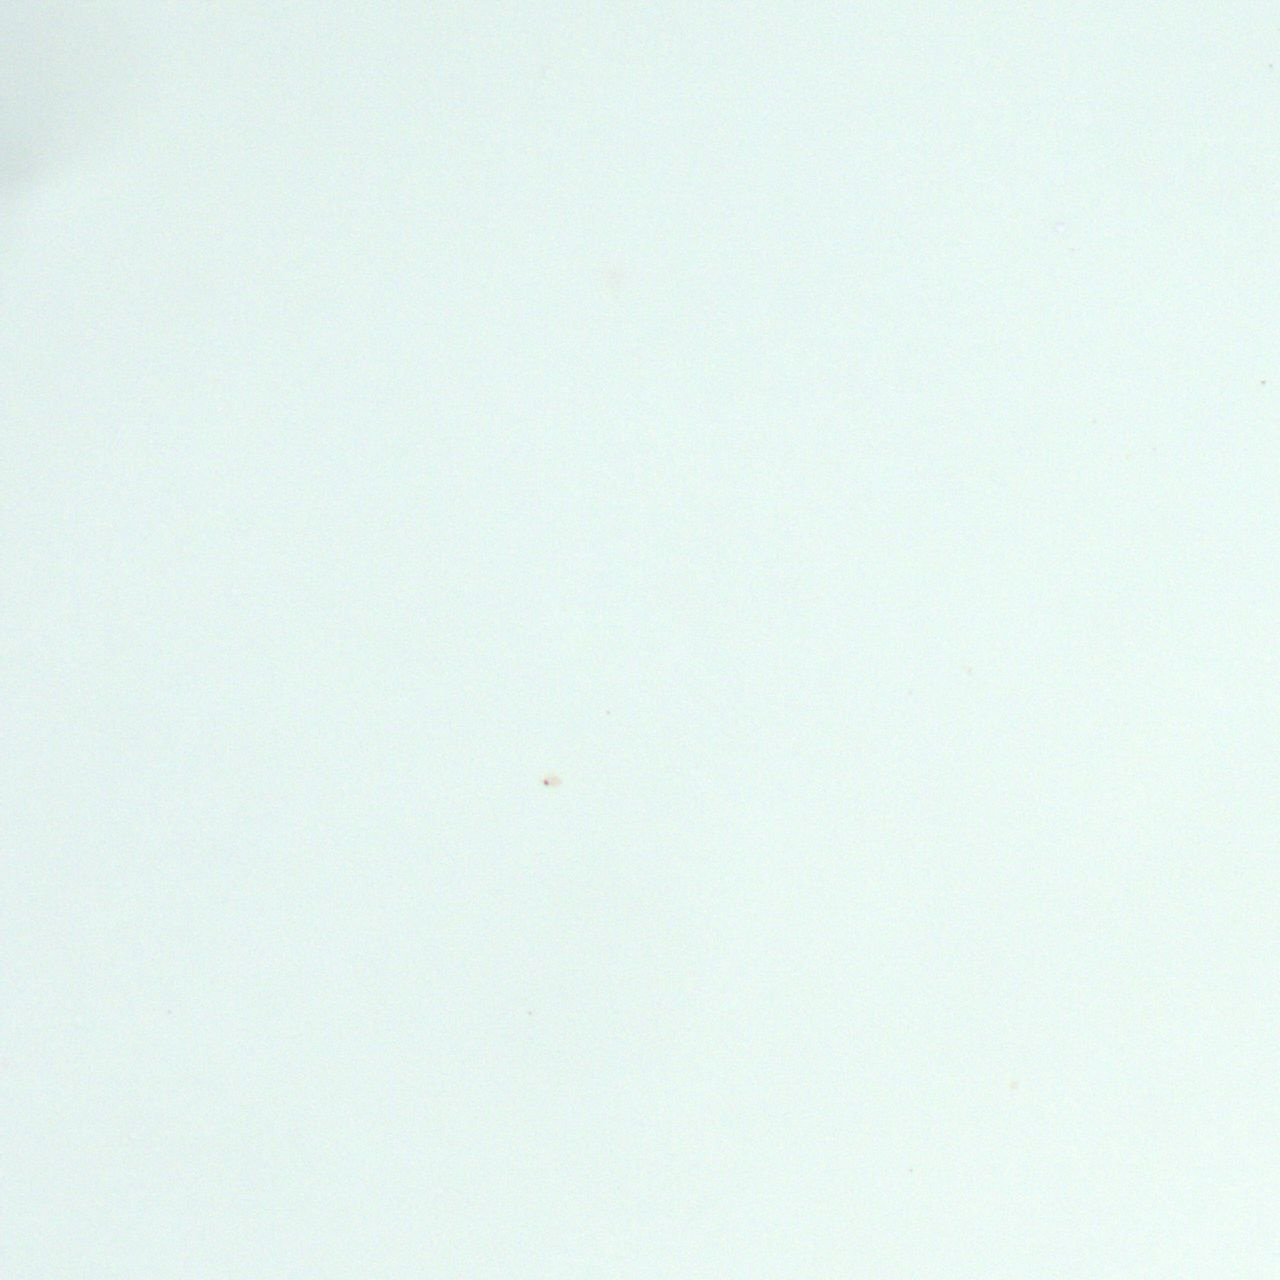dust: (540, 778, 550, 787), (606, 709, 610, 715)
